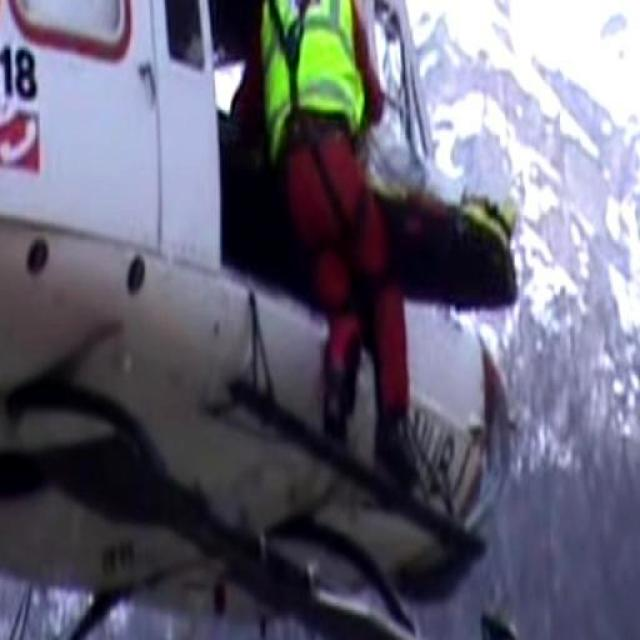drone: (0, 0, 526, 640)
